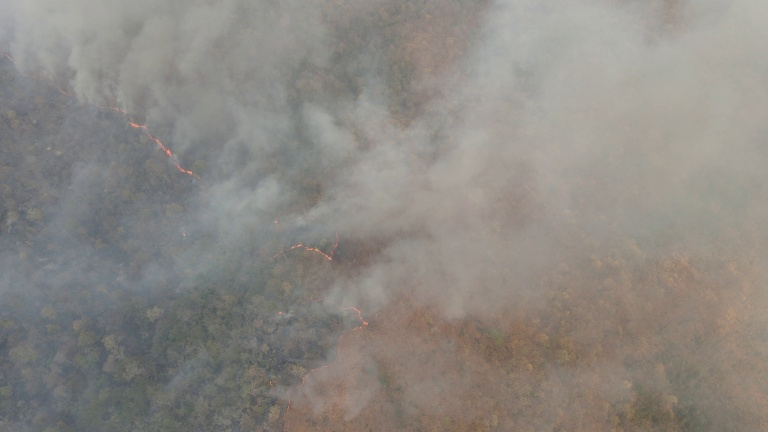fire: (2, 54, 119, 115), (275, 289, 375, 356), (122, 104, 206, 179), (252, 365, 324, 432), (262, 214, 342, 270)
smoke: (362, 1, 768, 290), (1, 1, 307, 178)
